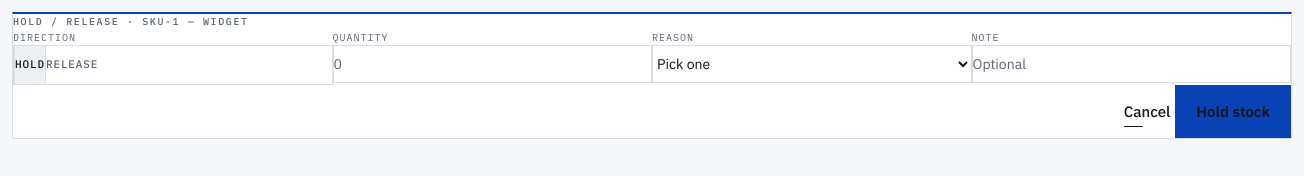
Scenario: OperatorPanel hold mode › posts a hold with the picked reason and shows the returned level
Type "4" into the number field labelled "Quantity" at x=492, y=64, box [332,45,652,83]
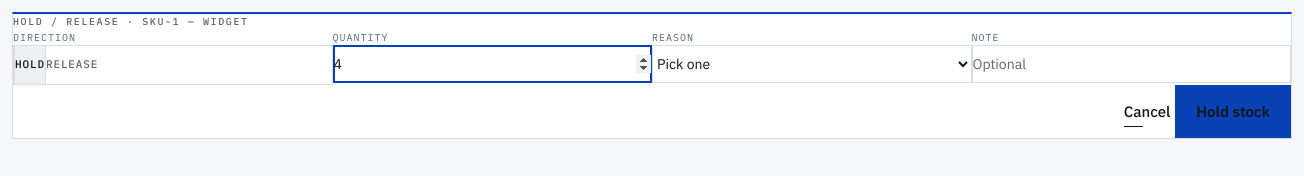
Select "Quality hold" in the dropdown labelled "Reason" at x=812, y=64, box [652,45,972,83]
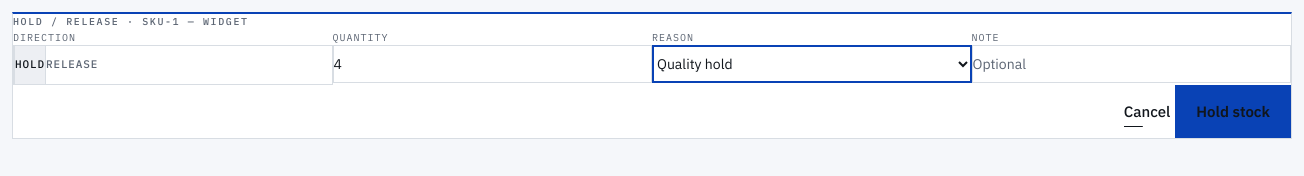
Click the button "Hold stock" at x=1233, y=112, box [1175,85,1291,138]
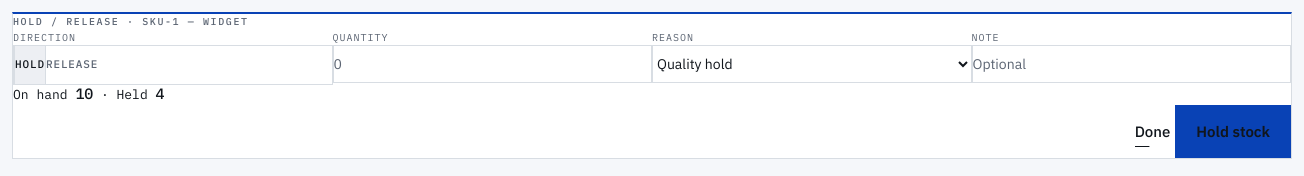
Expected: the message named "Level after posting" reads "On hand 10 · Held 4", [13,84,164,103]
